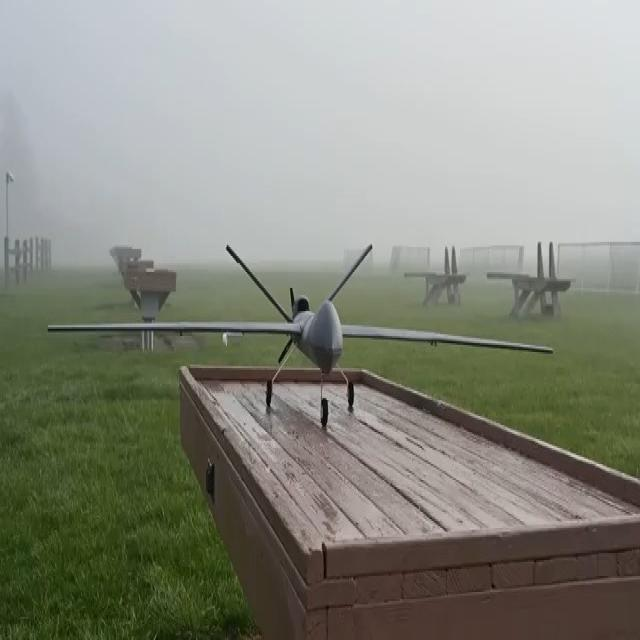iha: (48, 244, 552, 427), (341, 370, 352, 410)
